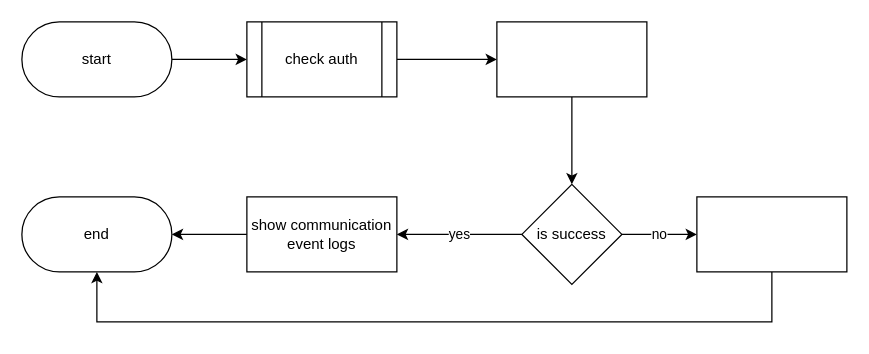
The diagram is 869 pixels wide and 354 high, and some of its shapes have lost their labels. Here are the shapes that lost their labels. From the top down, the centre of each, then its label:
the point at 571,59: use access token to get communication event logs
the point at 771,234: show error
